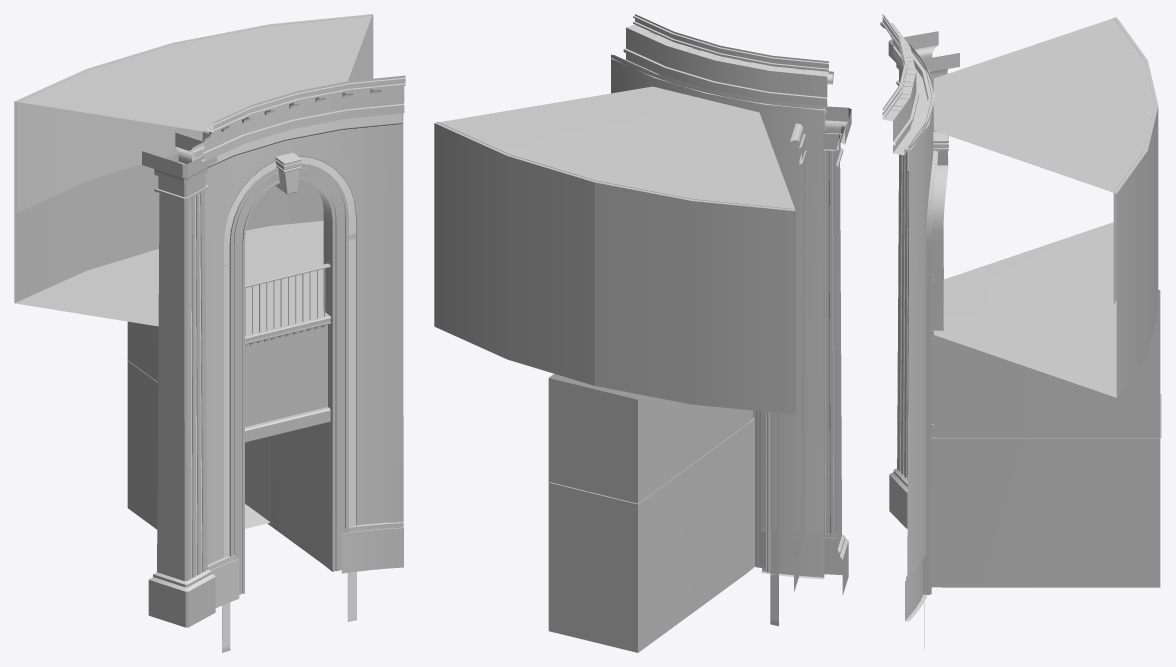
3 renders of one model, left to right at view 1: azimuth 30°, elevation 25°; view 2: azimuth 150°, elevation 25°; view 3: azimuth 270°, elevation 25°, orthographic.
Parts seen in each view (by area): view 1: Wall_Room, BASE, Frame, Pillar, Wall_Room_Shadow, CeilingRim, FrameGlow, DoorwayFade, WallGlow, FrameTop; view 2: Wall_Room, Frame, BASE, Pillar, CeilingRim, FrameGlow; view 3: Frame, Wall_Room, BASE, Pillar, CeilingRim, Wall_Room_Shadow, FrameTop.
Boxes of the visible parts, x1=… form: Wall_Room: x1=14, y1=14, x2=372, y2=442; BASE: x1=192, y1=113, x2=403, y2=607; Frame: x1=127, y1=163, x2=348, y2=594; Pillar: x1=142, y1=132, x2=216, y2=627; Wall_Room_Shadow: x1=17, y1=15, x2=373, y2=212; CeilingRim: x1=189, y1=75, x2=405, y2=161; FrameGlow: x1=222, y1=156, x2=356, y2=652; DoorwayFade: x1=245, y1=436, x2=270, y2=528; WallGlow: x1=192, y1=113, x2=402, y2=167; FrameTop: x1=275, y1=152, x2=301, y2=194; Wall_Room: x1=434, y1=86, x2=795, y2=504; Frame: x1=548, y1=374, x2=770, y2=652; BASE: x1=611, y1=54, x2=824, y2=579; Pillar: x1=790, y1=106, x2=851, y2=595; CeilingRim: x1=611, y1=14, x2=833, y2=113; FrameGlow: x1=770, y1=413, x2=778, y2=626; Frame: x1=922, y1=150, x2=1160, y2=594; Wall_Room: x1=931, y1=17, x2=1161, y2=438; BASE: x1=905, y1=44, x2=933, y2=621; Pillar: x1=888, y1=31, x2=959, y2=528; CeilingRim: x1=880, y1=14, x2=935, y2=155; Wall_Room_Shadow: x1=1113, y1=18, x2=1154, y2=304; FrameTop: x1=933, y1=132, x2=948, y2=165.
Bounding box in the file's own units: 1951 × 2873 × 1313.
